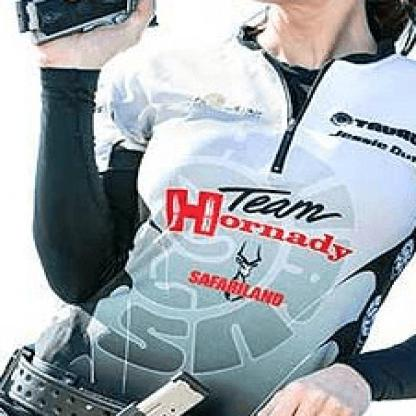gun: (9, 0, 179, 59)
